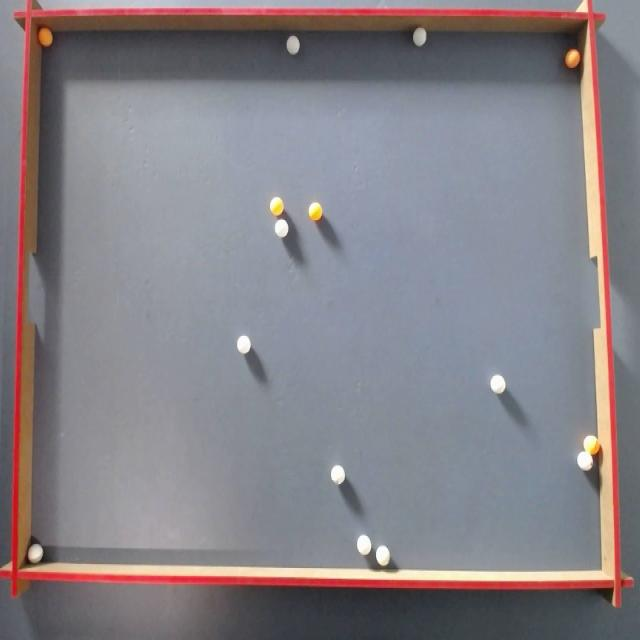orange_ball: (584, 435, 599, 455), (38, 27, 53, 46), (565, 49, 580, 68), (309, 202, 322, 220), (270, 197, 283, 215)
white_ball: (28, 543, 44, 564), (490, 374, 506, 394), (577, 451, 593, 471), (376, 546, 390, 566), (286, 35, 300, 54), (357, 535, 371, 554), (274, 220, 288, 238), (413, 27, 426, 46), (331, 465, 344, 484), (237, 335, 250, 354)
